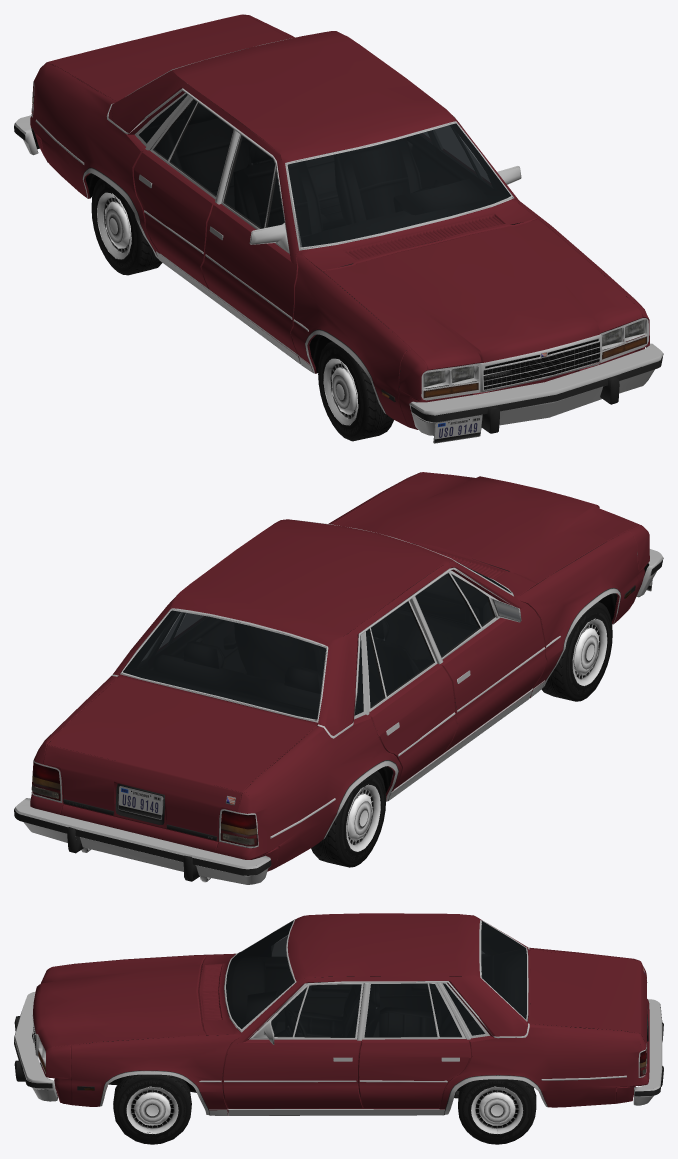
File: sedan.glb
3 views of the same model, one above another, from view 1: azimuth 30°, elevation 25°; view 2: azimuth 150°, elevation 25°; view 3: azimuth 270°, elevation 25° (orthographic). The views are drawn at different scales.
Visible parts, largest first — view 1: Sedan; view 2: Sedan; view 3: Sedan.
Part boxes in pixels (x1,y1,x2,y2): Sedan: (14,14,663,443); Sedan: (14,472,663,884); Sedan: (14,913,663,1144).
Bounding box in the file's own units: 1.83 × 1.35 × 5.
Materials: 8 (7 with a texture image).
